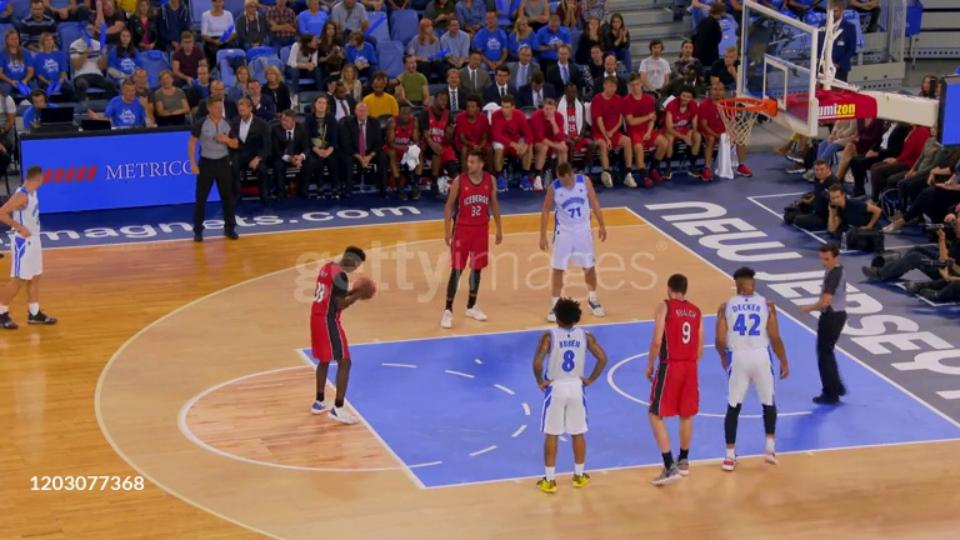hoop: (714, 95, 783, 118)
